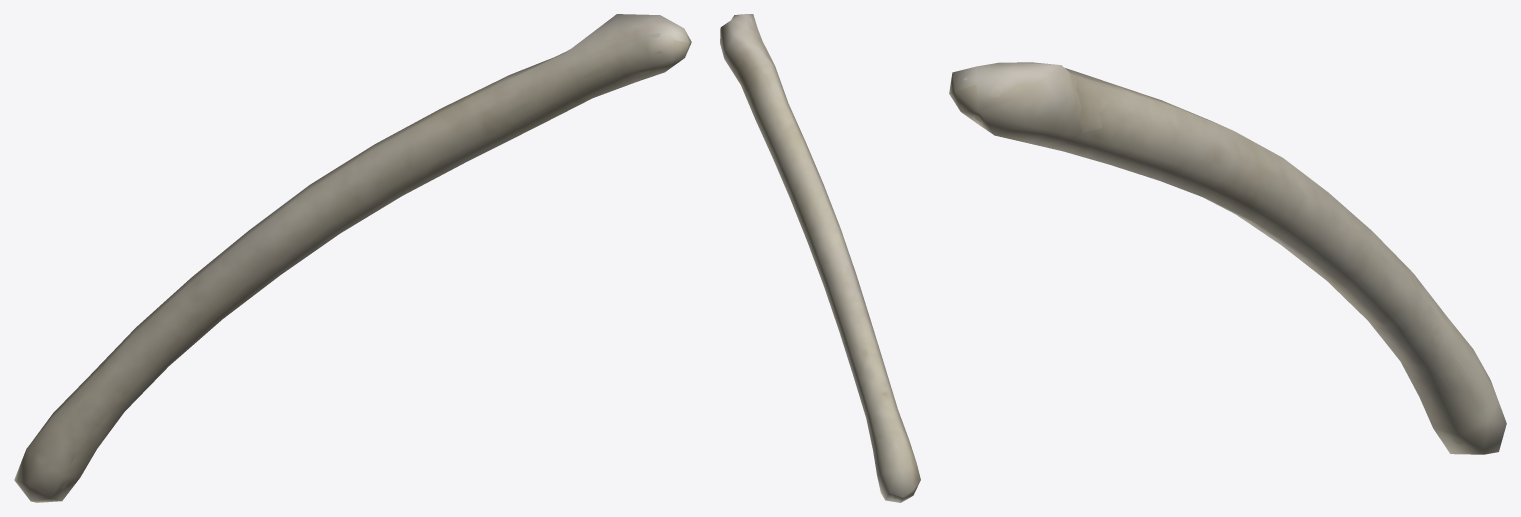
File: Rib R12.fbx
3 views of the same model, side by side, from view 1: azimuth 30°, elevation 25°; view 2: azimuth 150°, elevation 25°; view 3: azimuth 270°, elevation 25° (orthographic). The views are drawn at different scales.
Parts seen in each view (by area): view 1: Rib R12 low, Rib R12; view 2: Rib R12 low, Rib R12; view 3: Rib R12 low, Rib R12.
Part boxes in pixels (x1,y1,x2,y2): Rib R12 low: (14,14,691,502); Rib R12: (38,33,679,490); Rib R12 low: (720,14,920,502); Rib R12: (738,18,901,498); Rib R12 low: (949,62,1506,454); Rib R12: (963,74,1473,445).
Bounding box in the file's own units: 3.24 × 3.29 × 2.53.
1 material, 1 textured.
